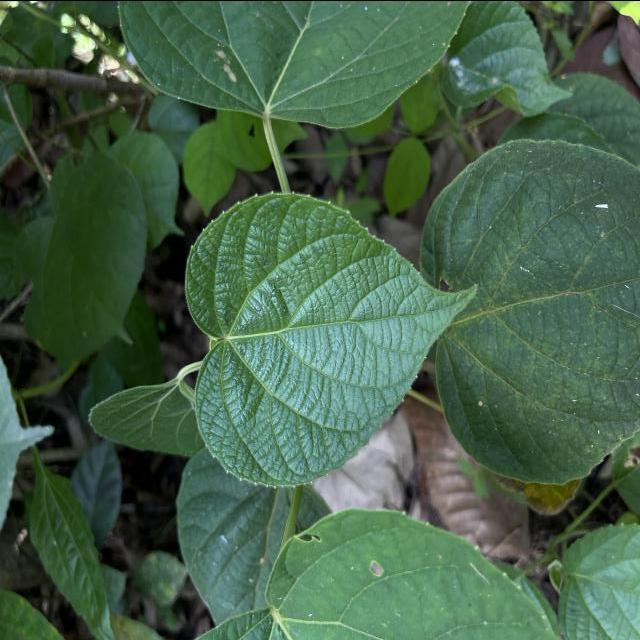Clerodendrum infortunatum: (180, 188, 476, 496)
